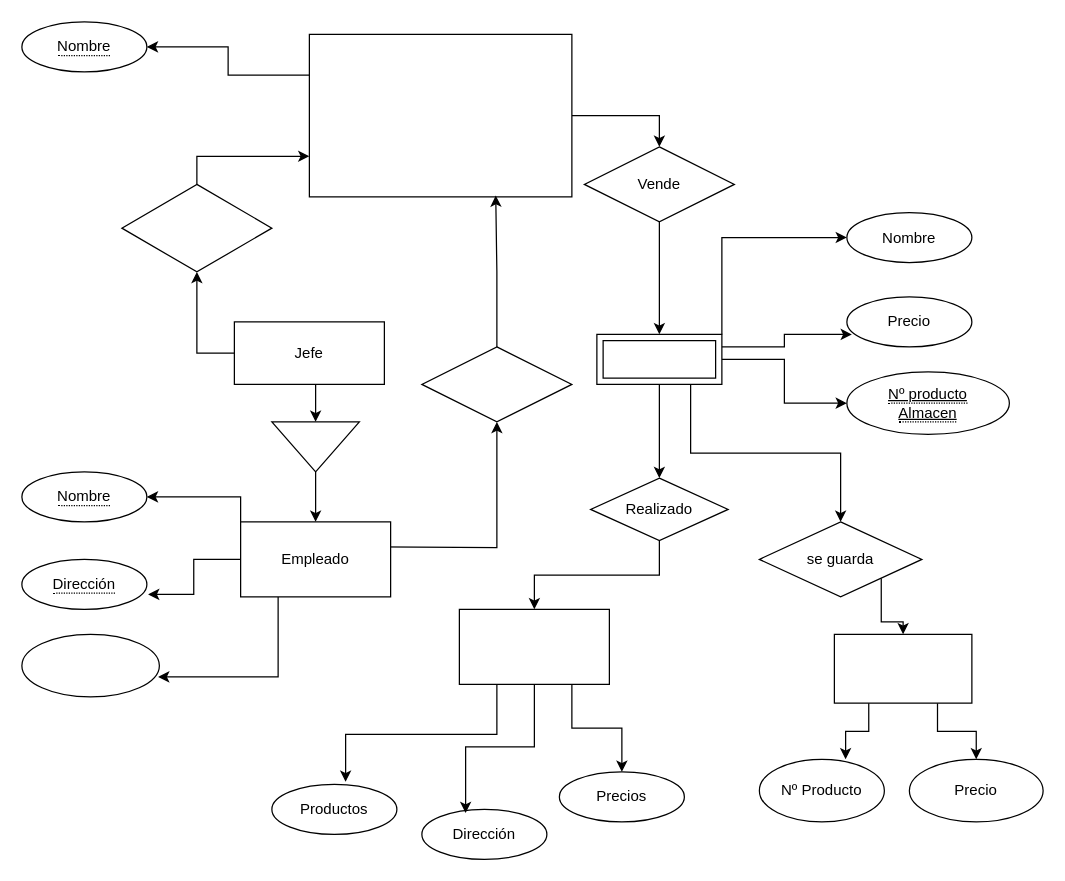
Image size: 1065x881. Some labels were removed from this diagram. The centre of each missing label's shape, as x and y in pixels:
"Almacen" belongs at point 902,668.
"Departamento" belongs at point 440,115.
"Dirige" belongs at point 196,227.
"Fabricante" belongs at point 533,646.
"Is a" belongs at point 315,446.
"Nº Empleado" belongs at point 90,665.
"Pertenece" belongs at point 496,384.
"Producto" belongs at point 659,358.
